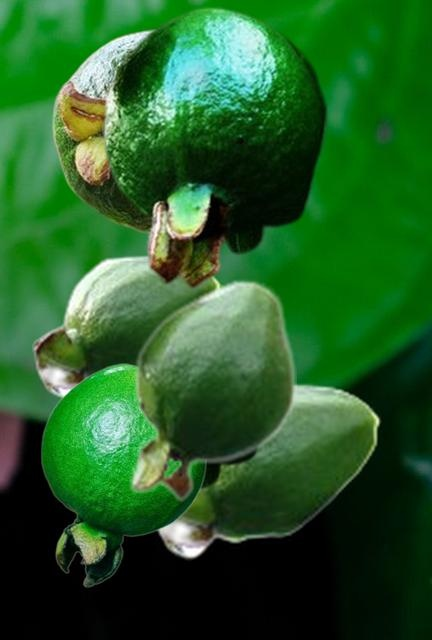guava: (102, 5, 328, 288), (153, 382, 380, 559), (129, 278, 295, 502), (40, 363, 206, 586), (32, 254, 220, 398), (51, 28, 149, 233), (201, 277, 260, 492)
